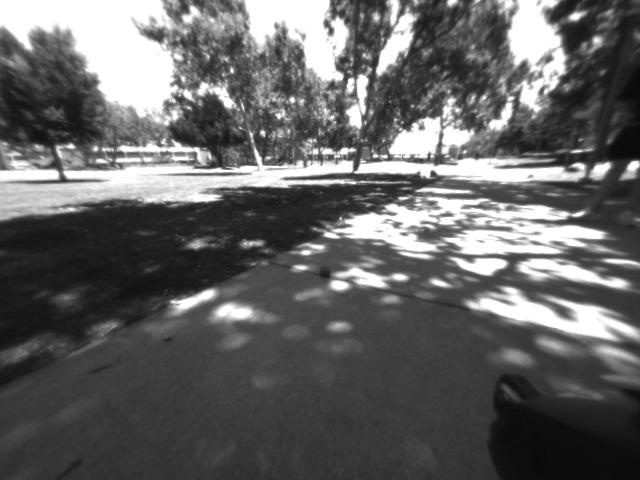dogtoy: (315, 260, 336, 282)
